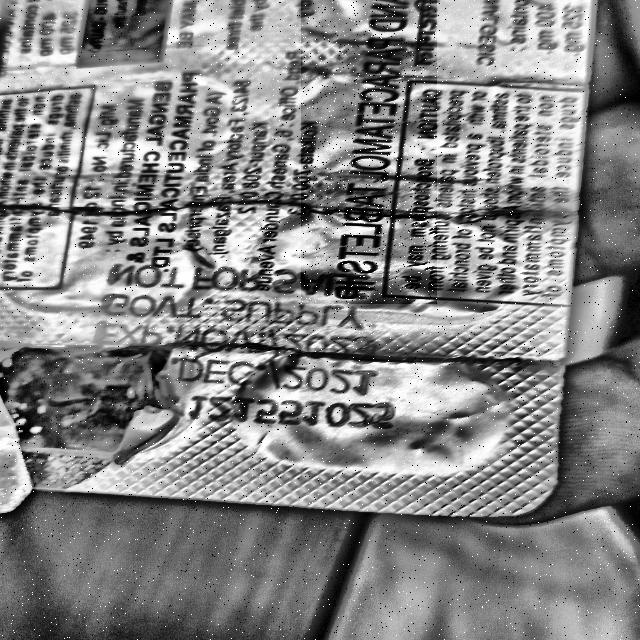IBUPROFEN AND PARACETAMOL TABLETS: (301, 0, 436, 304)
